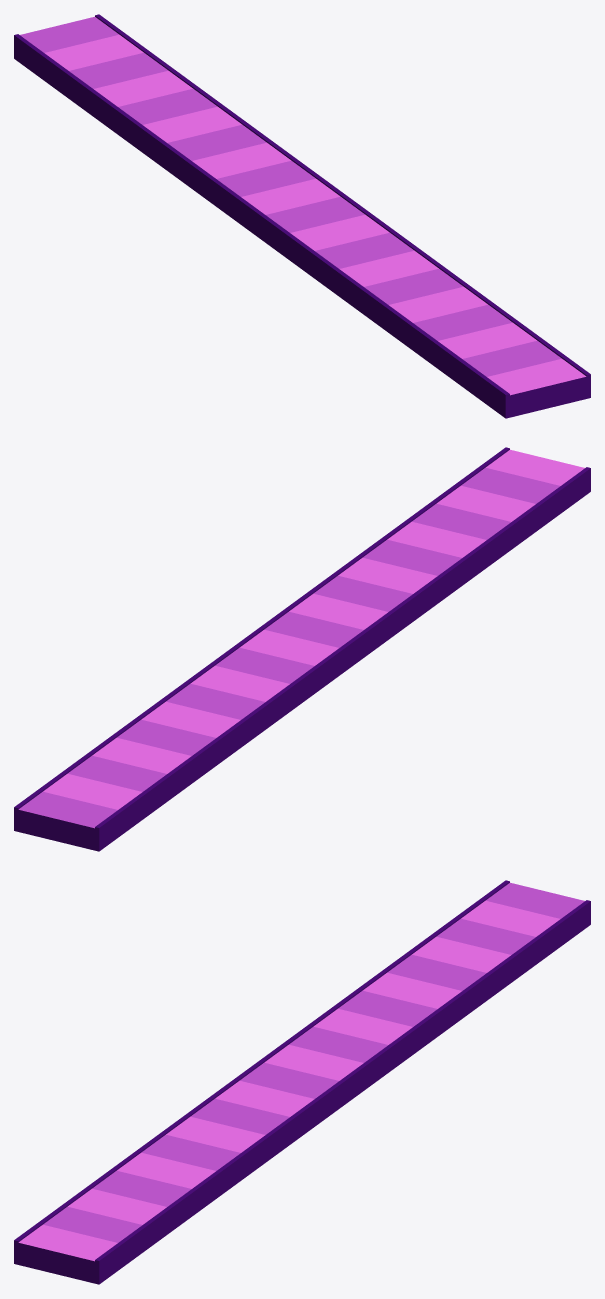
Rendered from road_pink_10.fbx.
The picture shows the model from 3 angles, top to bottom: view 1: azimuth 30°, elevation 25°; view 2: azimuth 150°, elevation 25°; view 3: azimuth 330°, elevation 25°; orthographic projection.
Parts seen in each view (by area): view 1: road_pink_10; view 2: road_pink_10; view 3: road_pink_10.
Part boxes in pixels (bbox=[...]): road_pink_10: bbox=[14, 14, 590, 418]; road_pink_10: bbox=[14, 447, 590, 851]; road_pink_10: bbox=[14, 880, 590, 1284].
Size of the model in its own units: 2 by 0.5304 by 20.
